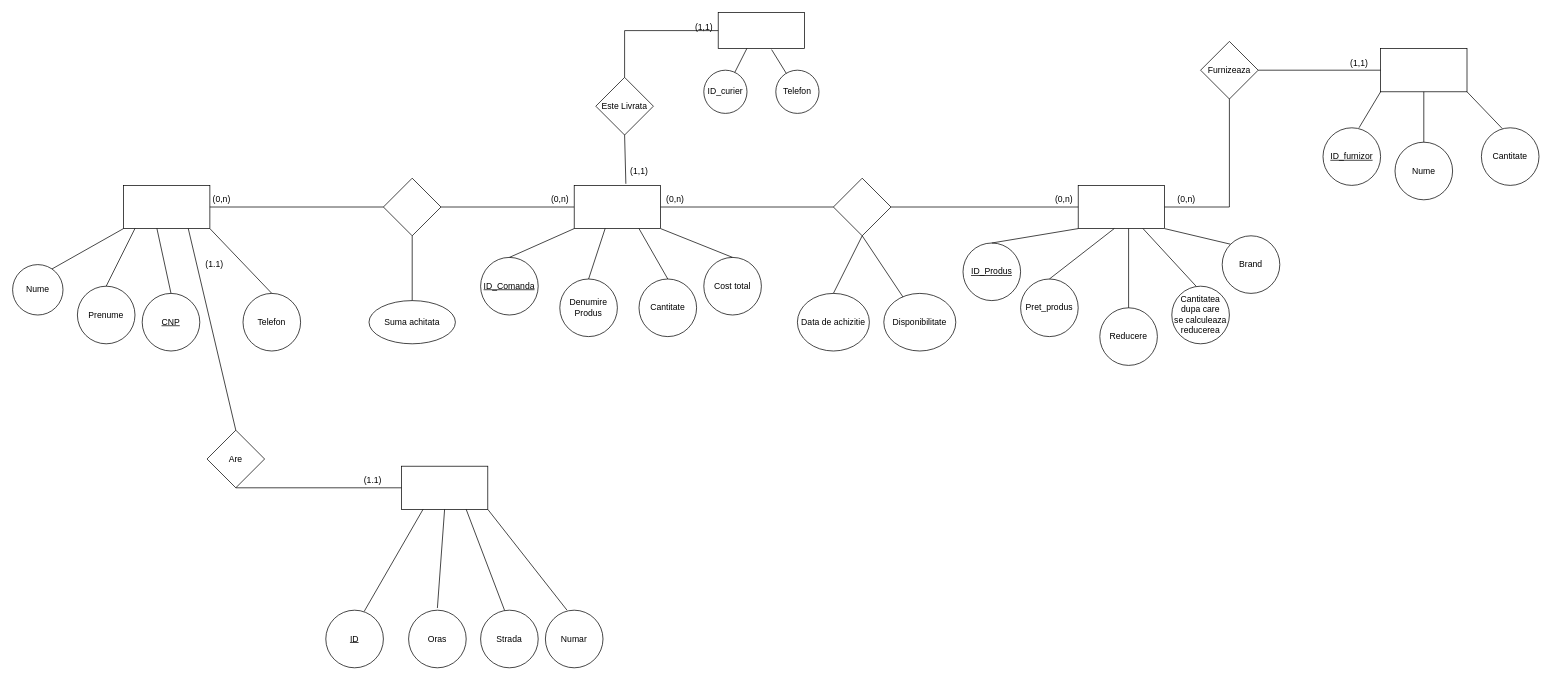
This 1552x680 diagram has some shape labels left out. Here are the shapes that lost their labels. From the top down, the centre of each, then its label:
At (x=761, y=30): "Curier".
At (x=1423, y=70): "Furnizor".
At (x=166, y=207): "Client".
At (x=412, y=206): "Plaseaza Comanda".
At (x=617, y=207): "Comanda".
At (x=862, y=206): "Contine".
At (x=1121, y=207): "Produs".
At (x=444, y=487): "Adresa".
